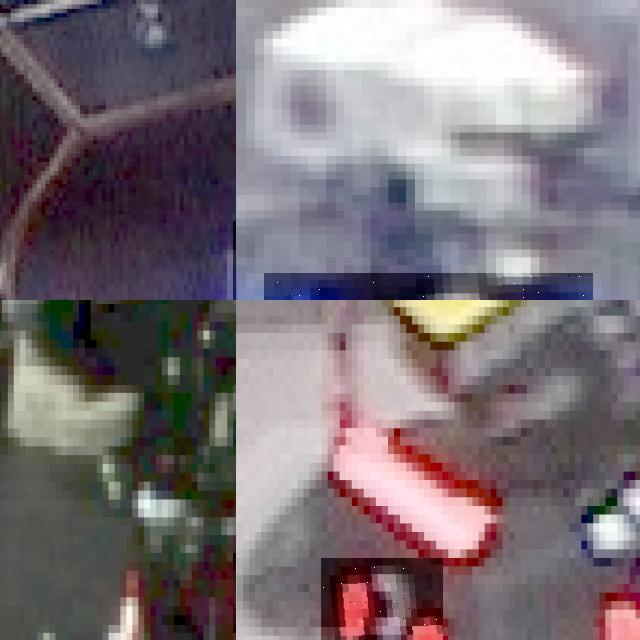B4: (264, 272, 593, 300)
R3: (321, 557, 442, 640), (593, 549, 640, 640)
